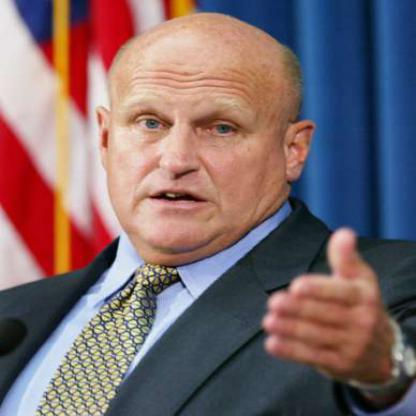face: (95, 17, 291, 258)
